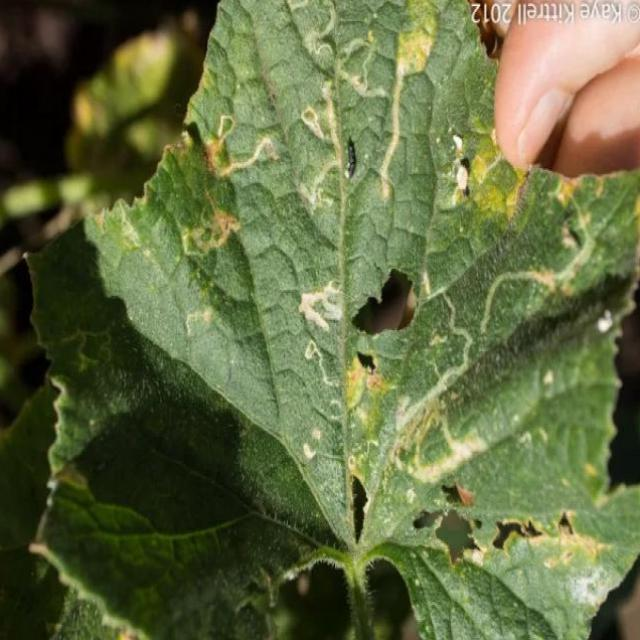Serpentine leafminer: (283, 245, 482, 478), (274, 1, 369, 211), (402, 476, 595, 572), (185, 102, 275, 271), (396, 123, 500, 247), (530, 174, 614, 292), (321, 476, 373, 556), (480, 256, 528, 338)
